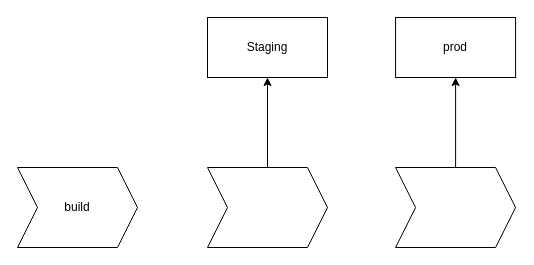
Some shapes in this 534 by 265 pixel diagram are drawn without their labels. Here are the shapes that lost their labels. From the top down, the centre of each, then its label:
point (267, 207): deploy staging
point (455, 207): deploy prod
